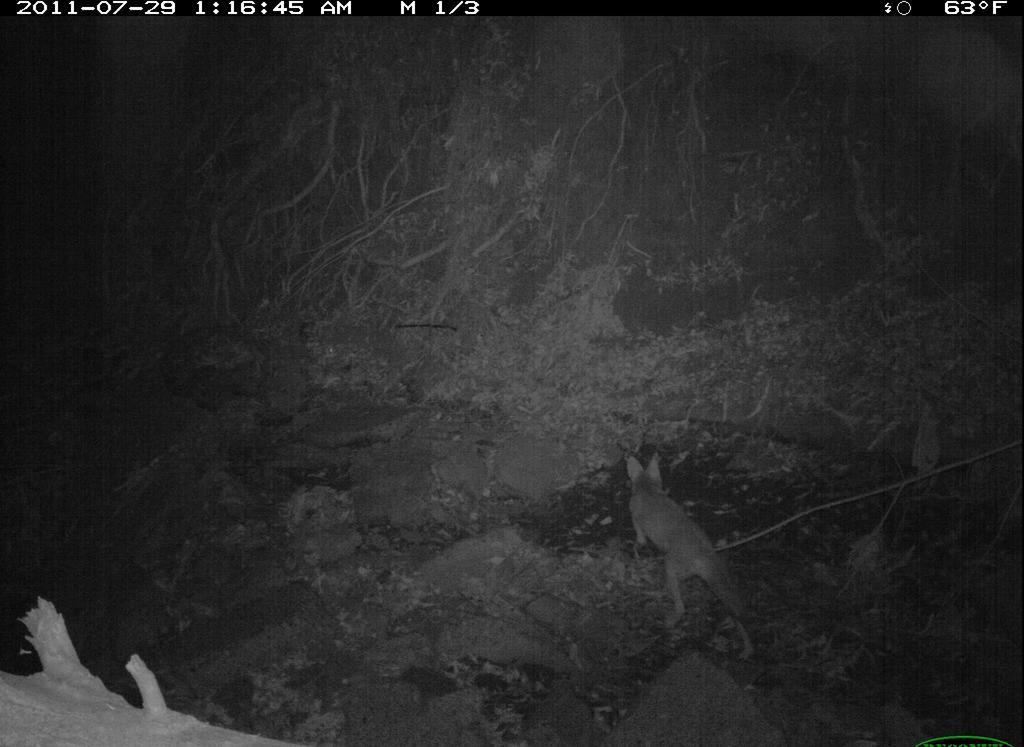coyote: (617, 441, 760, 648)
